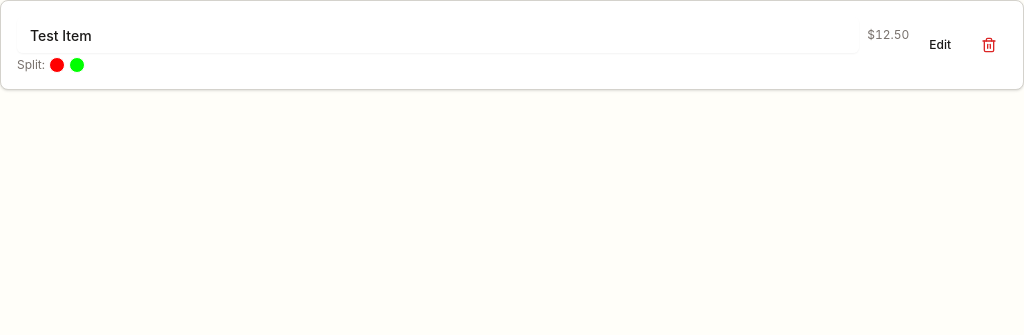
Scenario: ItemRow › expands to show edit mode when Edit button clicked
Click the button "Edit".
click(940, 45)  # box [921,27,959,63]
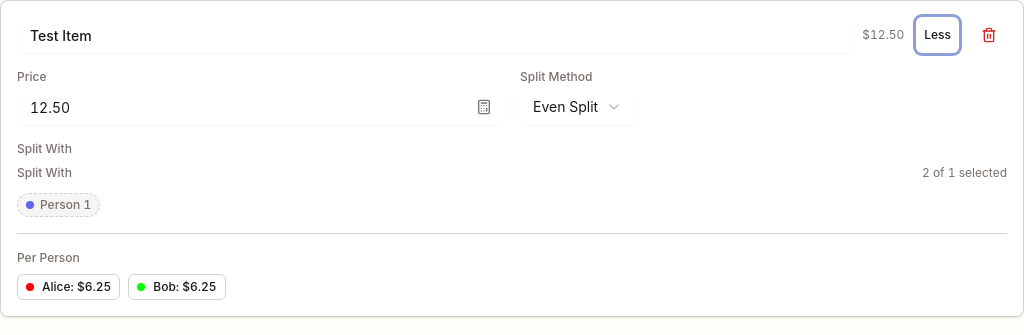
Result: the button "Less" is shown at [916,17,959,53]
Result: the text "Price" is shown at [17,69,46,84]
Result: the text "Split Method" is shown at [520,69,592,84]
